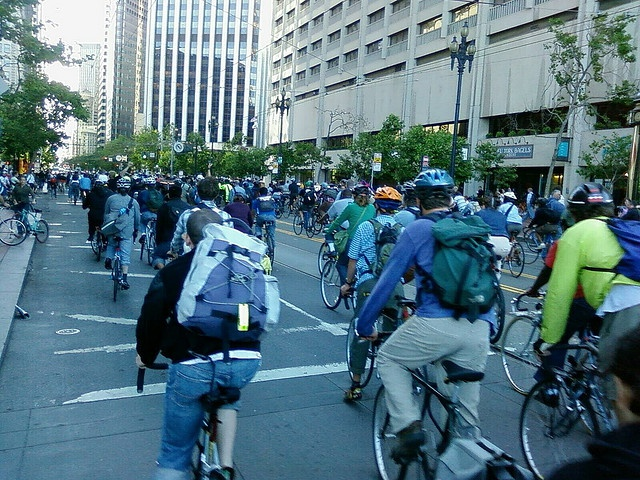non-vehicle: (132, 364, 244, 474), (344, 275, 416, 387), (520, 377, 601, 472), (502, 288, 549, 394), (0, 203, 49, 248), (316, 257, 342, 307), (105, 235, 124, 302), (292, 202, 317, 238), (507, 230, 525, 278), (139, 220, 156, 262), (318, 236, 334, 275)
